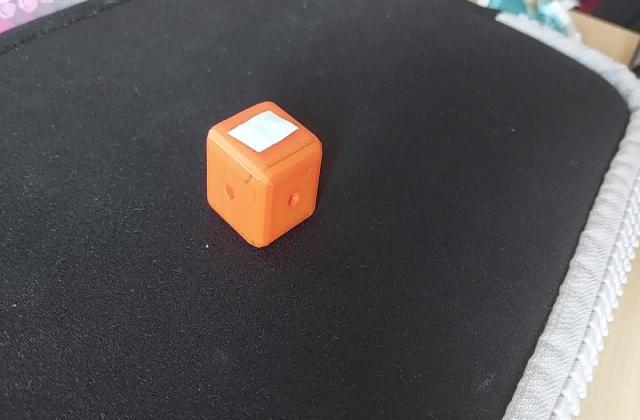cube: (203, 94, 329, 251)
white: (230, 118, 294, 158)
